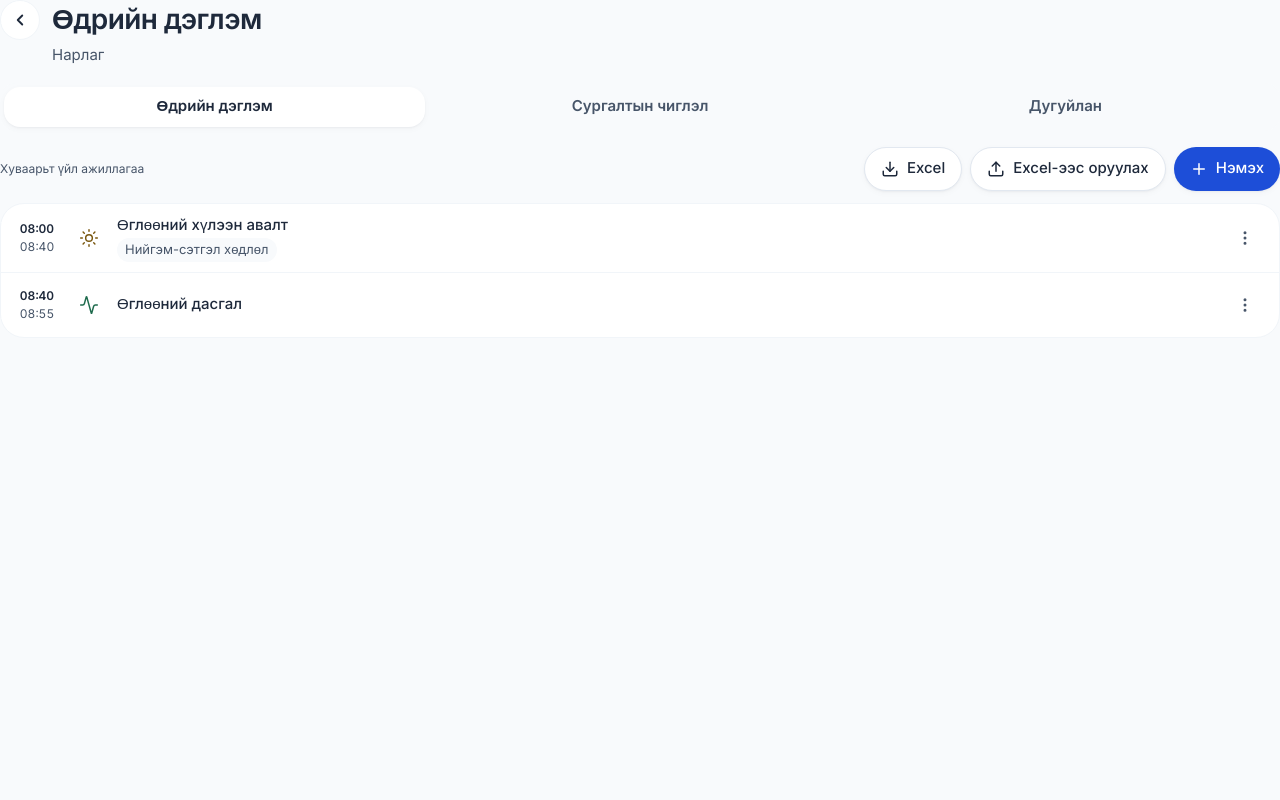
Test: the clubs' requests table › lists each child with the clubs they attend, and the total
The image size is (1280, 800).
Click the tab "Дугуйлан" at (1065, 106), box [855,86,1276,126]
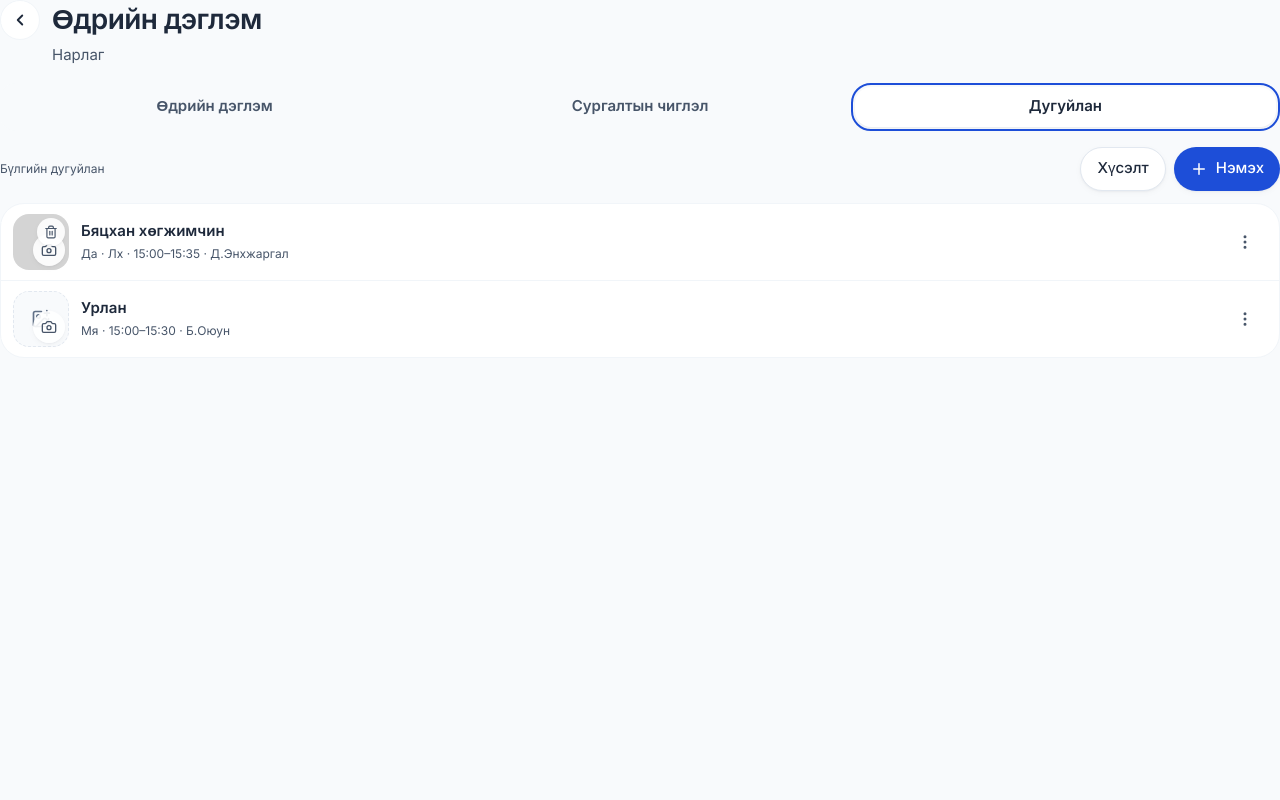
Click the button "Хүсэлт" at (1123, 168), box [1080,146,1166,190]
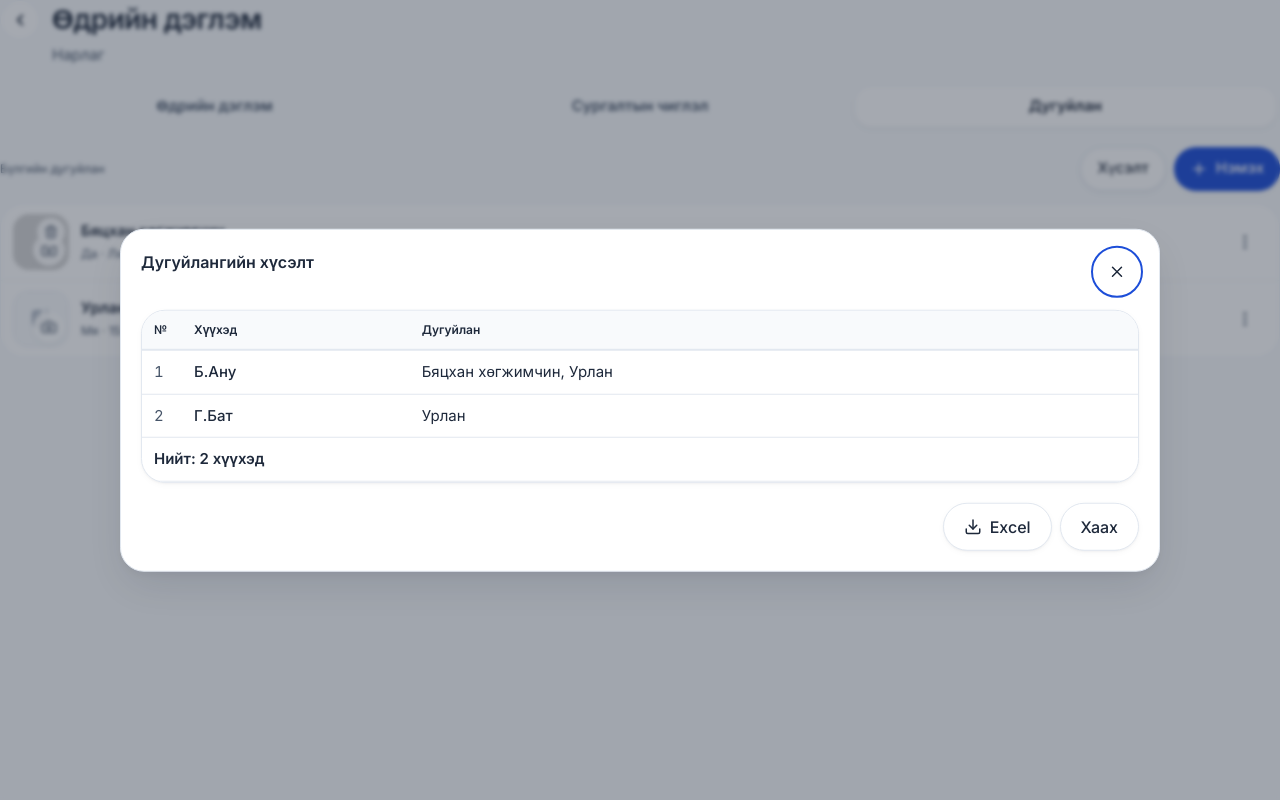
Check: the text "Б.Ану" shows "Бяцхан хөгжимчин, Урлан", box [422,362,613,381]
Check: the text "Нийт: 2 хүүхэд" is shown, box [142,437,1138,481]
Check: the button "Excel" is enabled, box [943,502,1052,550]
